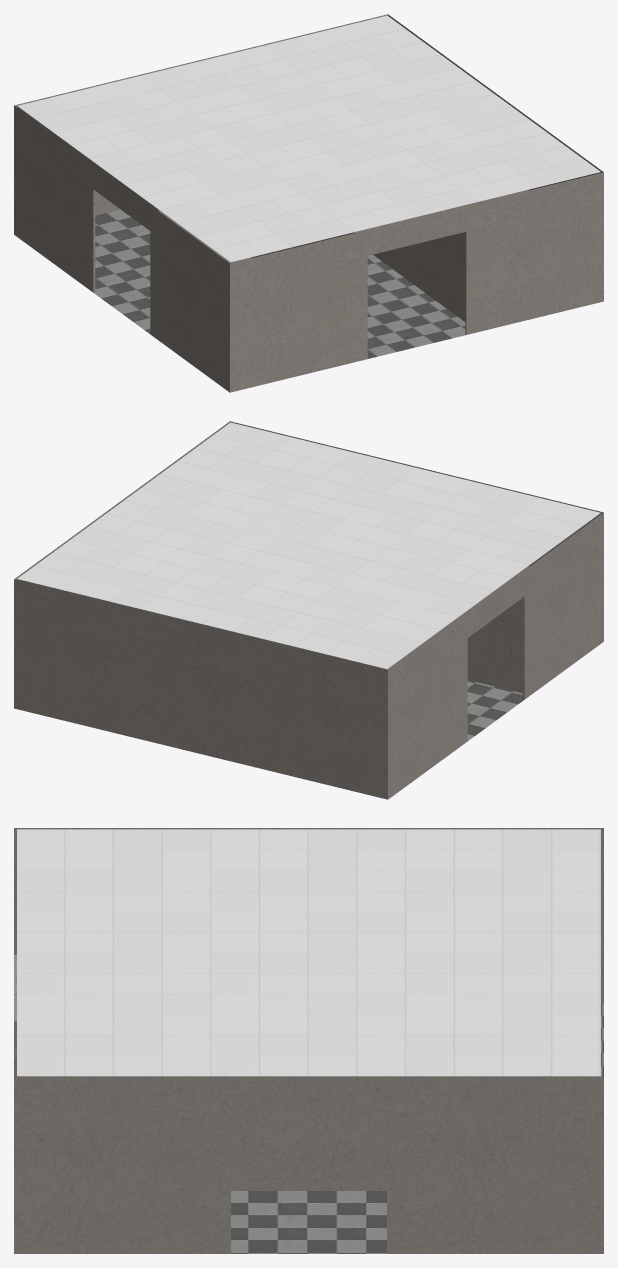
File: 3exitweird.glb
The picture shows the model from 3 angles, top to bottom: view 1: azimuth 30°, elevation 25°; view 2: azimuth 150°, elevation 25°; view 3: azimuth 270°, elevation 25°; orthographic projection. The views are drawn at different scales.
Visible parts, largest first — view 1: 3exitweird; view 2: 3exitweird; view 3: 3exitweird.
Boxes of the visible parts, left/top/right/bottom form: 3exitweird: left=14, top=14, right=603, bottom=392; 3exitweird: left=14, top=421, right=603, bottom=799; 3exitweird: left=14, top=828, right=603, bottom=1253.
Size of what is drawn, in the model's own units: 15.15 by 5 by 15.15.
Materials: 3 (3 with a texture image).
